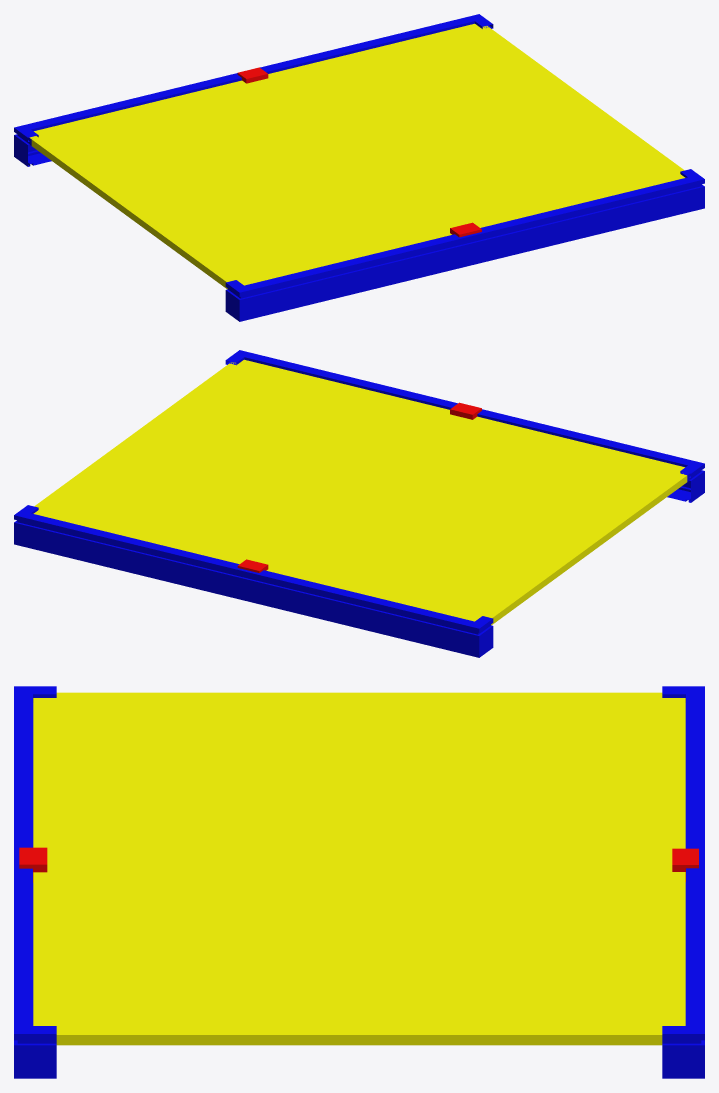
3 renders of one model, top to bottom at view 1: azimuth 30°, elevation 25°; view 2: azimuth 150°, elevation 25°; view 3: azimuth 270°, elevation 25°, orthographic. The views are drawn at different scales.
Visible parts, largest first — view 1: variable, fixed2, fixed1; view 2: variable, fixed1, fixed2; view 3: variable, fixed1, fixed2, snap1, snap2.
Boxes of the visible parts, x1=… form: variable: x1=29, y1=23, x2=685, y2=289; fixed2: x1=225, y1=169, x2=704, y2=321; fixed1: x1=14, y1=14, x2=493, y2=166; variable: x1=33, y1=359, x2=687, y2=625; fixed1: x1=14, y1=505, x2=493, y2=657; fixed2: x1=225, y1=350, x2=704, y2=502; variable: x1=33, y1=692, x2=685, y2=1045; fixed1: x1=662, y1=686, x2=704, y2=1078; fixed2: x1=14, y1=686, x2=56, y2=1078; snap1: x1=19, y1=847, x2=47, y2=882; snap2: x1=672, y1=848, x2=698, y2=881.
Size of the model in its own units: 0.5 by 0.0327 by 0.42.
